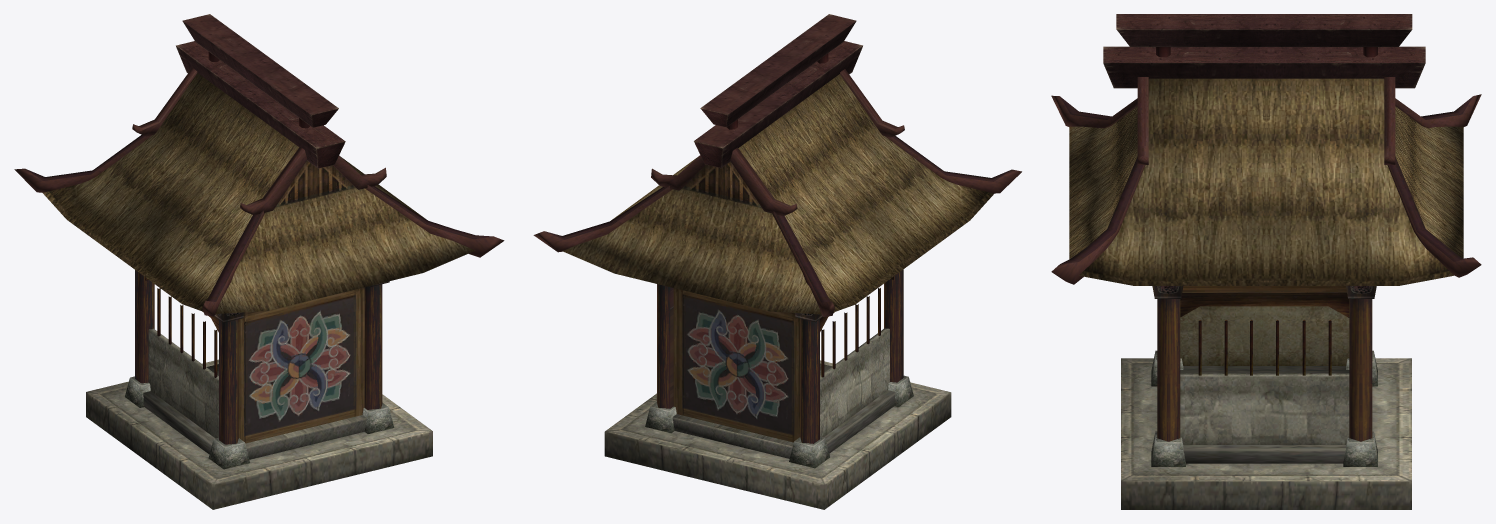
File: fortms_build_totem.glb
3 views of the same model, side by side, from view 1: azimuth 30°, elevation 25°; view 2: azimuth 150°, elevation 25°; view 3: azimuth 270°, elevation 25° (orthographic). The views are drawn at different scales.
Parts seen in each view (by area): view 1: fortMS_build_totem, fortMS_build_totem_top; view 2: fortMS_build_totem, fortMS_build_totem_top; view 3: fortMS_build_totem, fortMS_build_totem_top.
Boxes of the visible parts, x1,y1,x2,y2 form: fortMS_build_totem: [14, 67, 504, 509]; fortMS_build_totem_top: [176, 14, 345, 168]; fortMS_build_totem: [533, 69, 1021, 509]; fortMS_build_totem_top: [694, 14, 862, 168]; fortMS_build_totem: [1051, 77, 1481, 509]; fortMS_build_totem_top: [1103, 14, 1425, 88].
Size of the model in its own units: 5.14 by 6.04 by 5.53.
2 materials, 2 textured.
